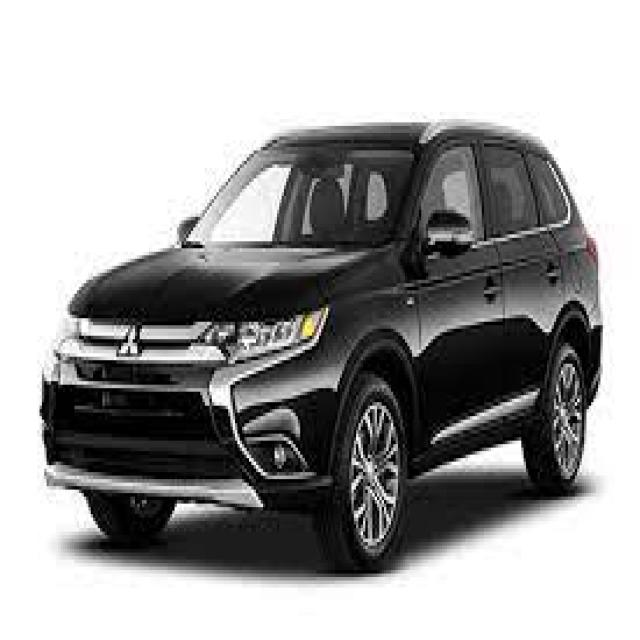light_vehicle: (38, 117, 604, 575)
